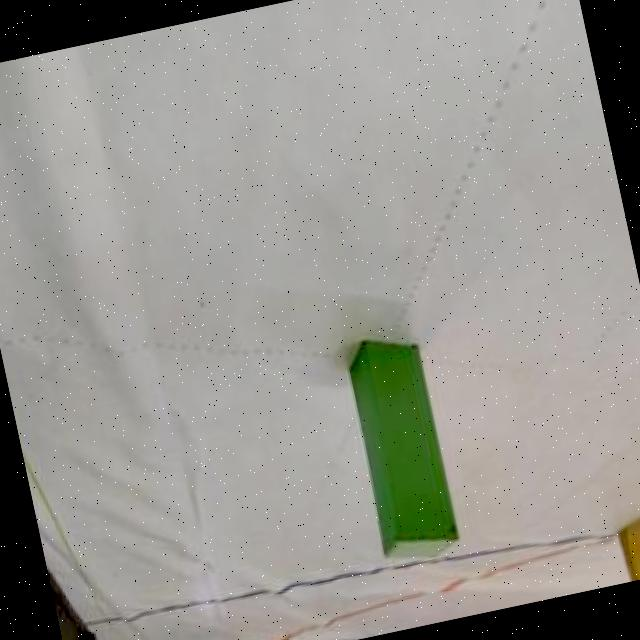greenbox: (332, 328, 467, 568)
